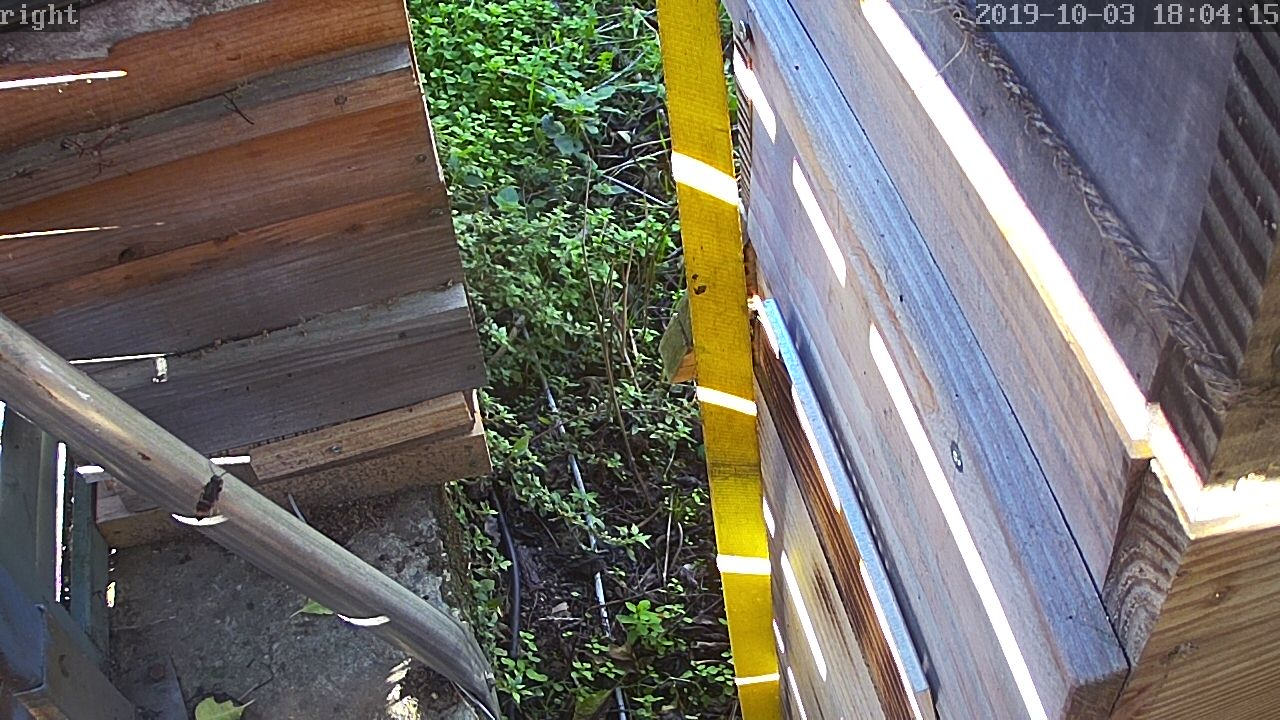hornet: (190, 470, 231, 526)
